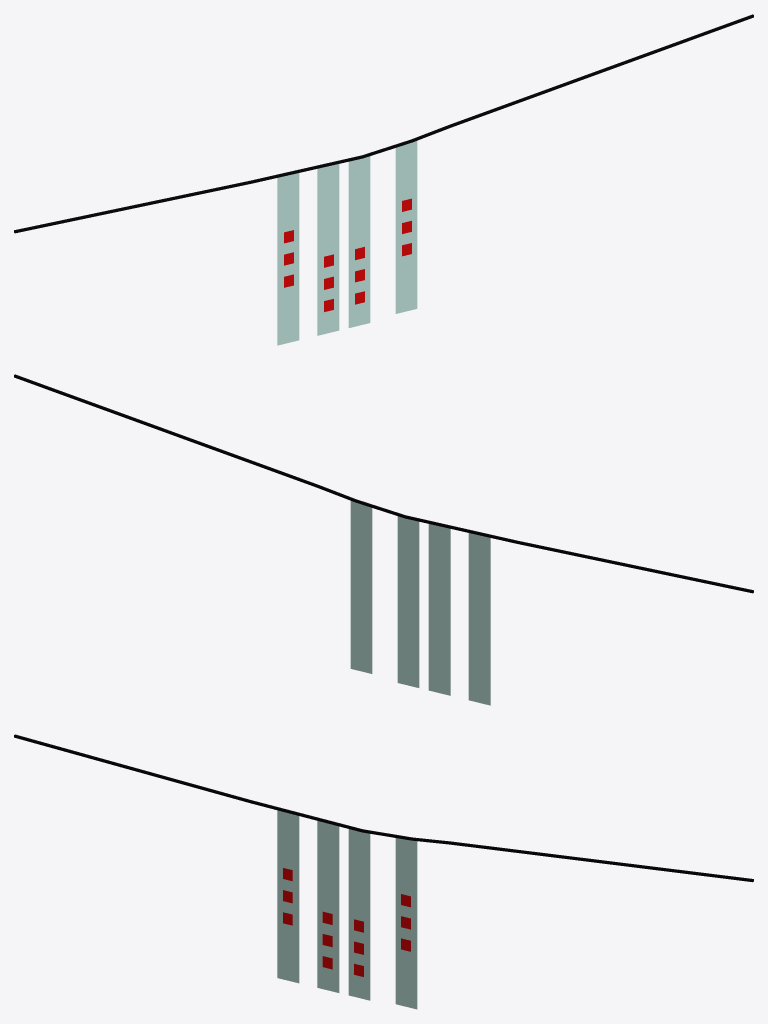
File: Narrow_Flags_01.glb
3 views of the same model, one above another, from view 1: azimuth 30°, elevation 25°; view 2: azimuth 150°, elevation 25°; view 3: azimuth 330°, elevation 25° (orthographic).
Parts seen in each view (by area): view 1: narrowflags_01_geo; view 2: narrowflags_01_geo; view 3: narrowflags_01_geo.
Boxes of the visible parts, box(x1,y1,x2,y2) form: narrowflags_01_geo: box(14, 14, 753, 345); narrowflags_01_geo: box(14, 374, 753, 705); narrowflags_01_geo: box(14, 734, 753, 1009).
Bounding box in the file's own units: 13.11 × 3.64 × 0.0351.
1 material, 1 textured.
